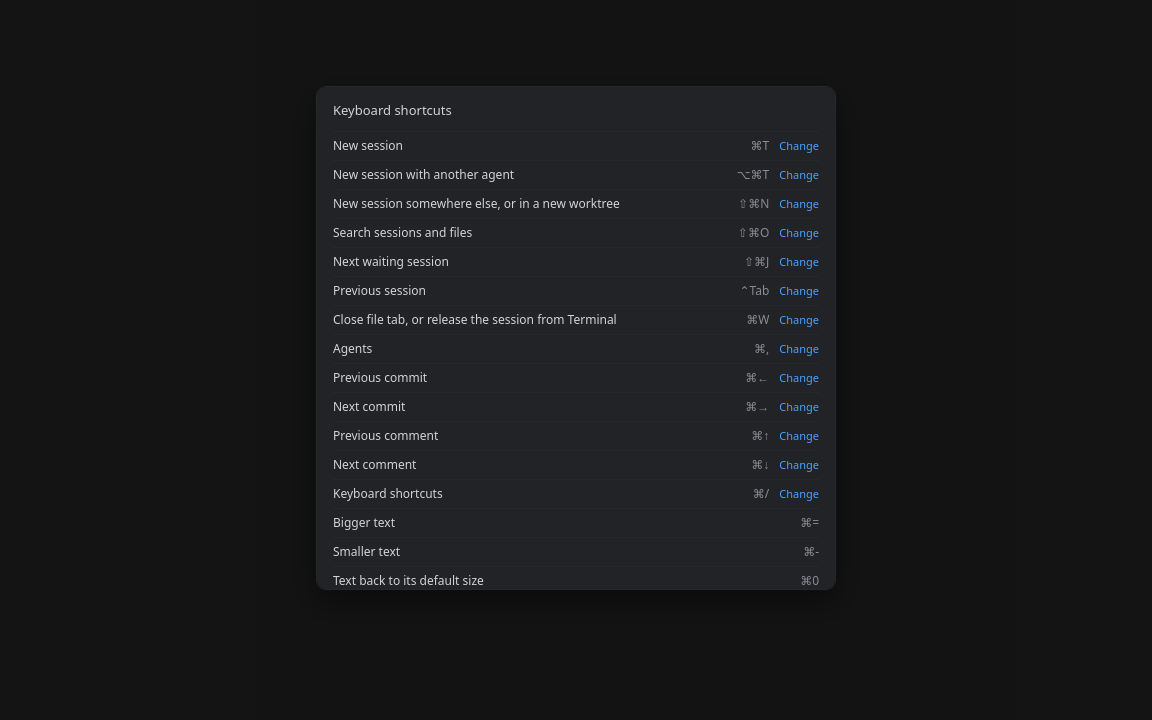
Scenario: ShortcutsDialog › says why keys are refused, waits for others, and Escape leaves it as it was
Click the button with aria-label "Change the key for New session": (799, 146) [779,138,819,154]
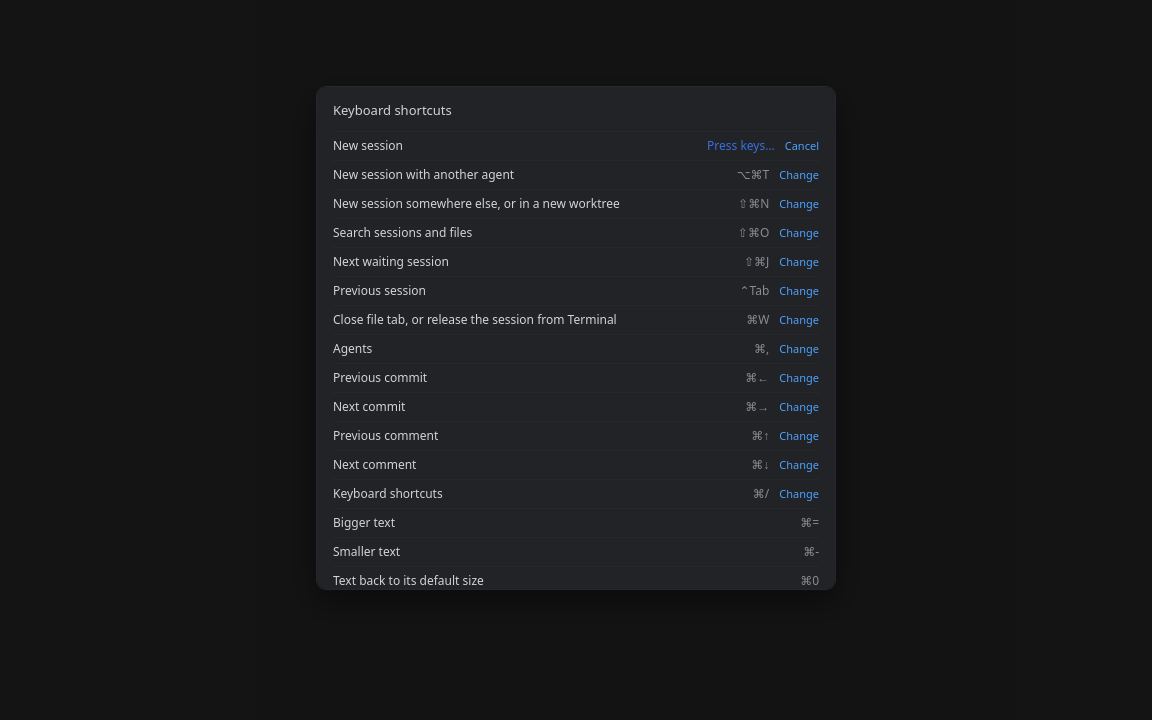
Press o
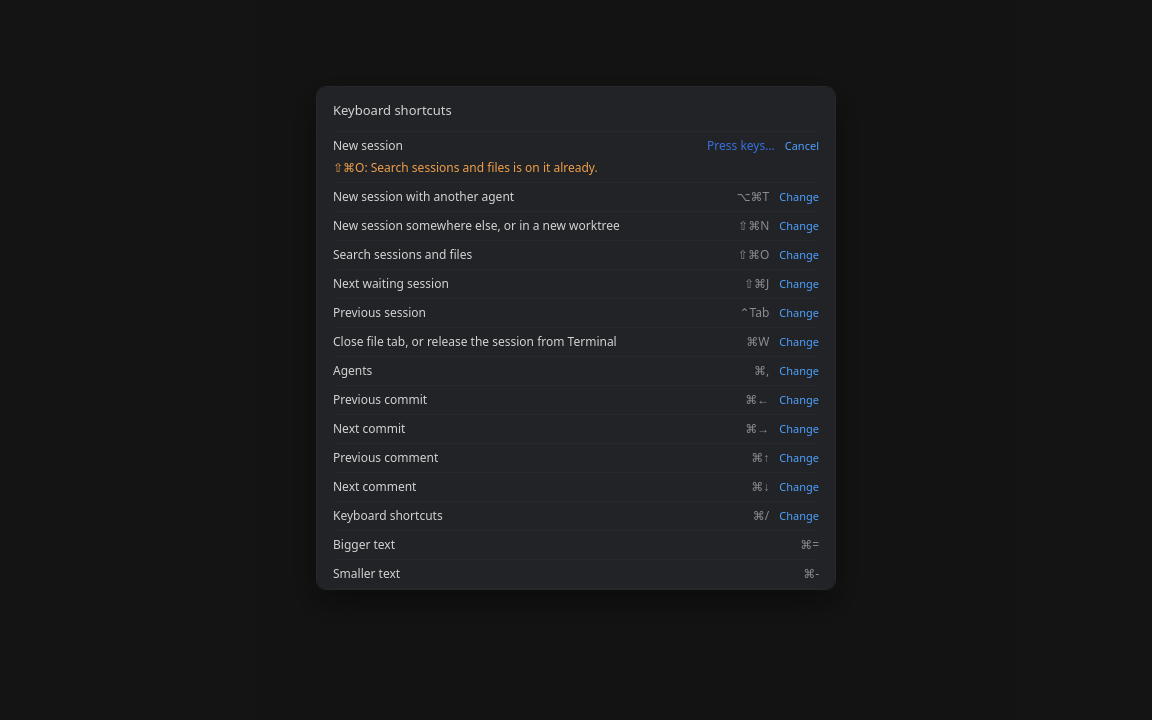
Result: the text "Press keys…" is shown at [707,137,775,155]
Result: the text "⇧⌘O: Search sessions and files is on it already." is shown at [333,159,598,176]
Press Escape
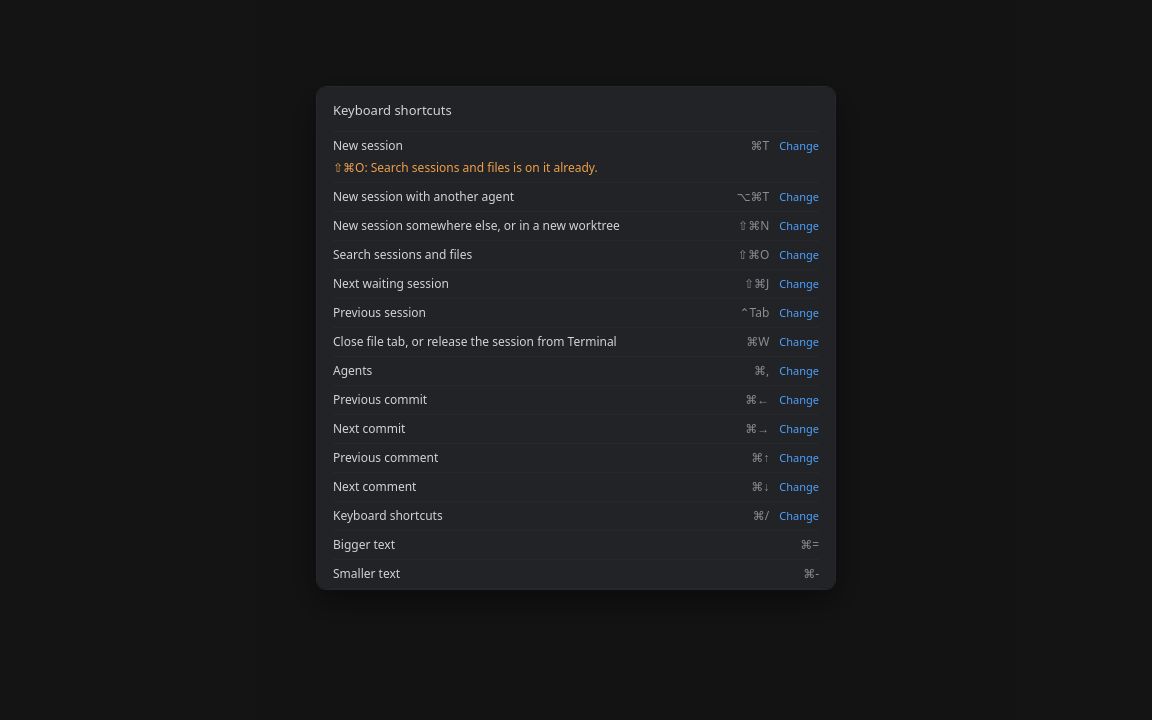
Result: the text "⌘T" is shown at [751,137,769,154]
